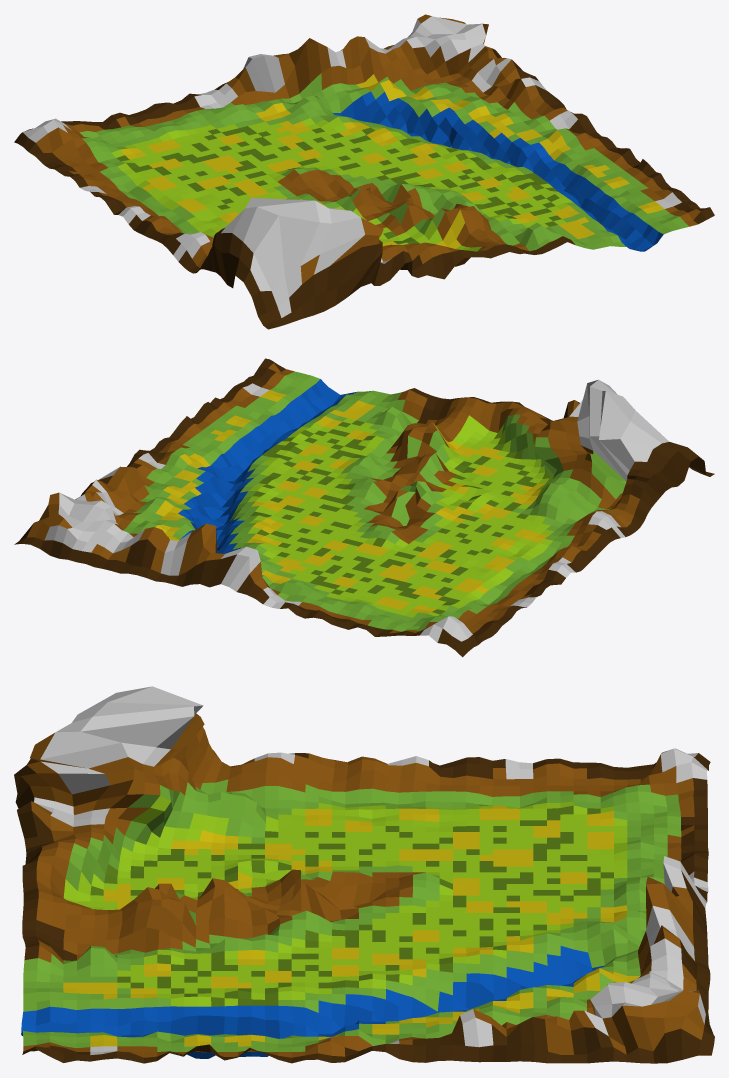
The model's file is Forrest_terrain_Mat.fbx.
3 renders of one model, top to bottom at view 1: azimuth 30°, elevation 25°; view 2: azimuth 150°, elevation 25°; view 3: azimuth 270°, elevation 25°, orthographic. The views are drawn at different scales.
Parts seen in each view (by area): view 1: Plane; view 2: Plane; view 3: Plane.
Part boxes in pixels (x1,y1,x2,y2): Plane: [14, 14, 714, 329]; Plane: [14, 358, 714, 657]; Plane: [14, 686, 714, 1063].
Bounding box in the file's own units: 62373 × 15667 × 61497.
